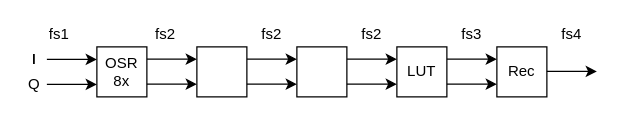
Some shapes in this 629 by 119 pixel diagram are drawn without their labels. Each missing label, with the centre of its shape:
"Delay" belongs at (221,71).
"Delta Sigma" belongs at (321,71).
